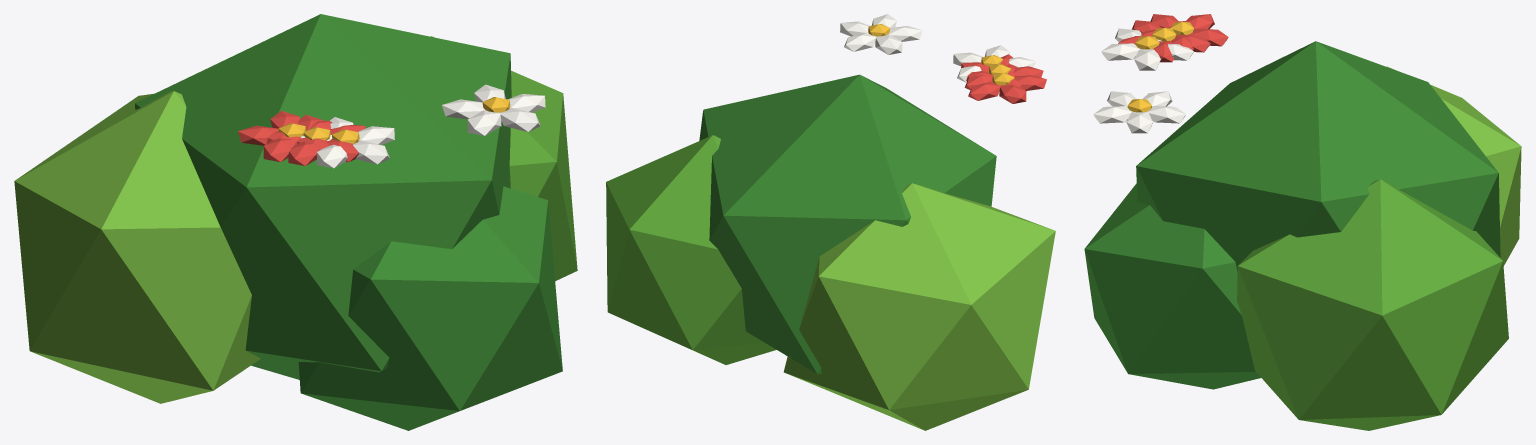
The model's file is shrub_flowering.glb.
The picture shows the model from 3 angles, left to right: view 1: azimuth 30°, elevation 25°; view 2: azimuth 150°, elevation 25°; view 3: azimuth 270°, elevation 25°; orthographic projection. The views are drawn at different scales.
Visible parts, largest first — view 1: shrub_flowering; view 2: shrub_flowering; view 3: shrub_flowering.
Part boxes in pixels (<box>): shrub_flowering: <box>14,14,577,430</box>; shrub_flowering: <box>606,14,1055,430</box>; shrub_flowering: <box>1084,14,1521,430</box>.
Bounding box in the file's own units: 0.7249 × 0.5064 × 0.5864.
